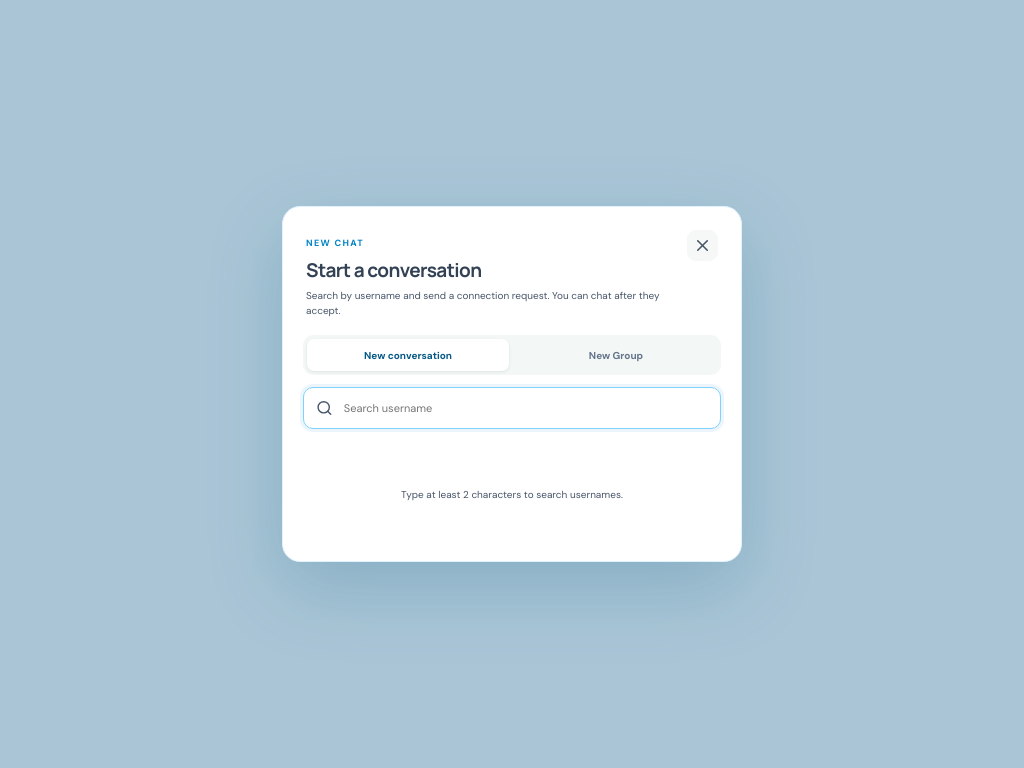
NewConversationDialog › sends a connection request and keeps the result in Request Sent state
Type "kanye" into the field named "Search people".
click(525, 408); type("kanye")  # box left=342, top=400, right=708, bottom=416
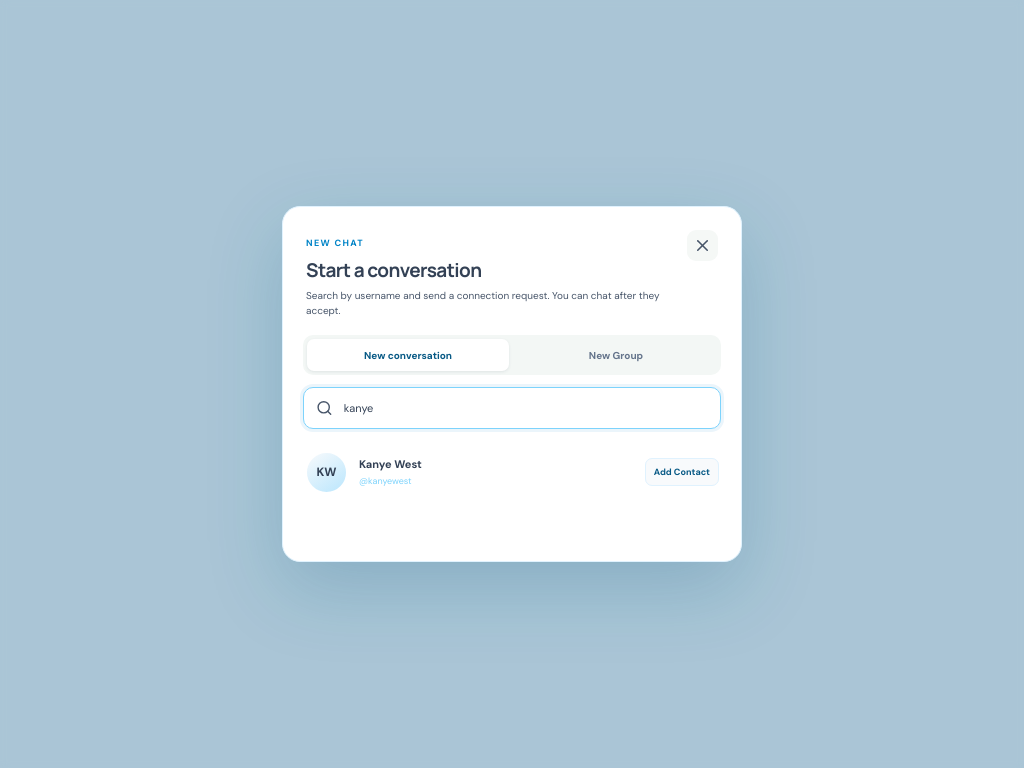
Result: the text "Kanye West" is shown at left=359, top=457, right=422, bottom=471
Click the button "Add Contact".
click(682, 472)  # box left=645, top=458, right=719, bottom=486
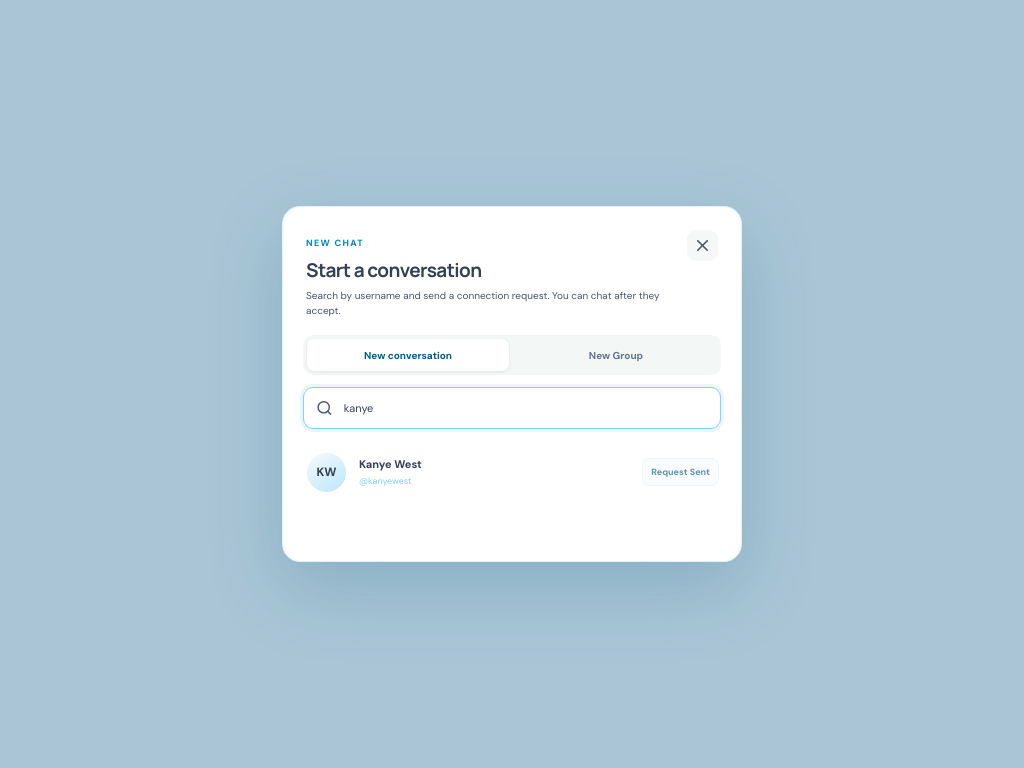
Result: the button "Request Sent" is disabled at left=642, top=458, right=719, bottom=486
